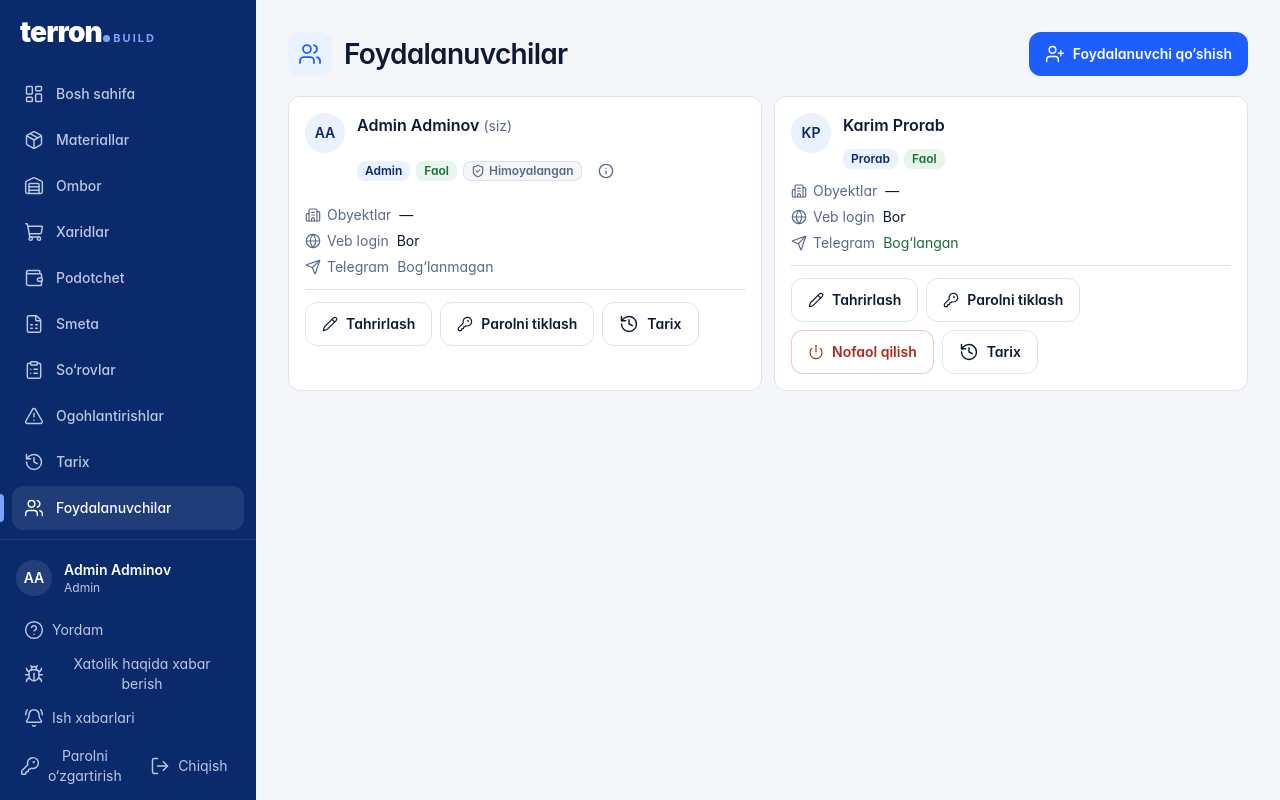
Test: /users — foydalanuvchi qo‘shish formasi › telefon band — tushunarli xato
Expected: the text "Karim Prorab" is shown, [843,115,945,135]
Click the button "Foydalanuvchi qo‘shish".
click(1138, 54)  # box [1029,32,1248,76]
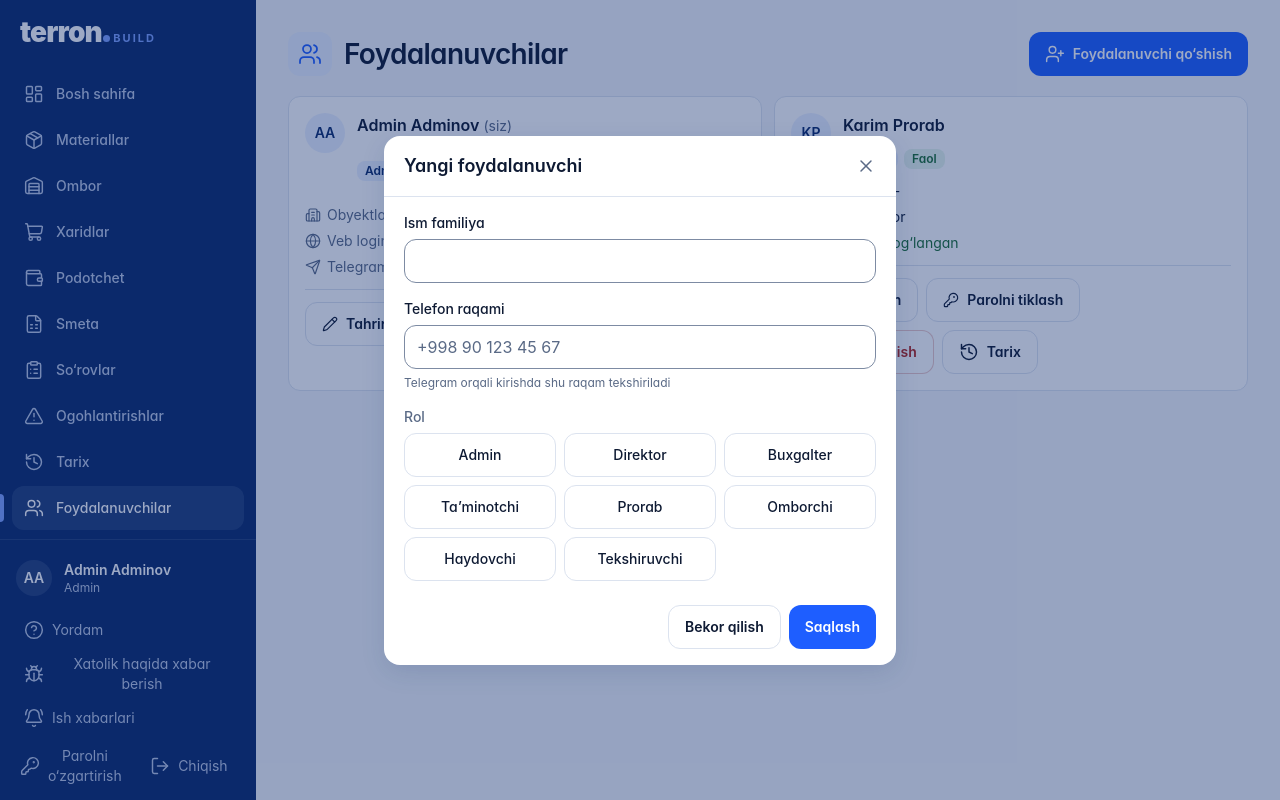
Type "Ali" into the field labelled "Ism familiya".
click(640, 260); type("Ali")  # box [404,238,876,282]
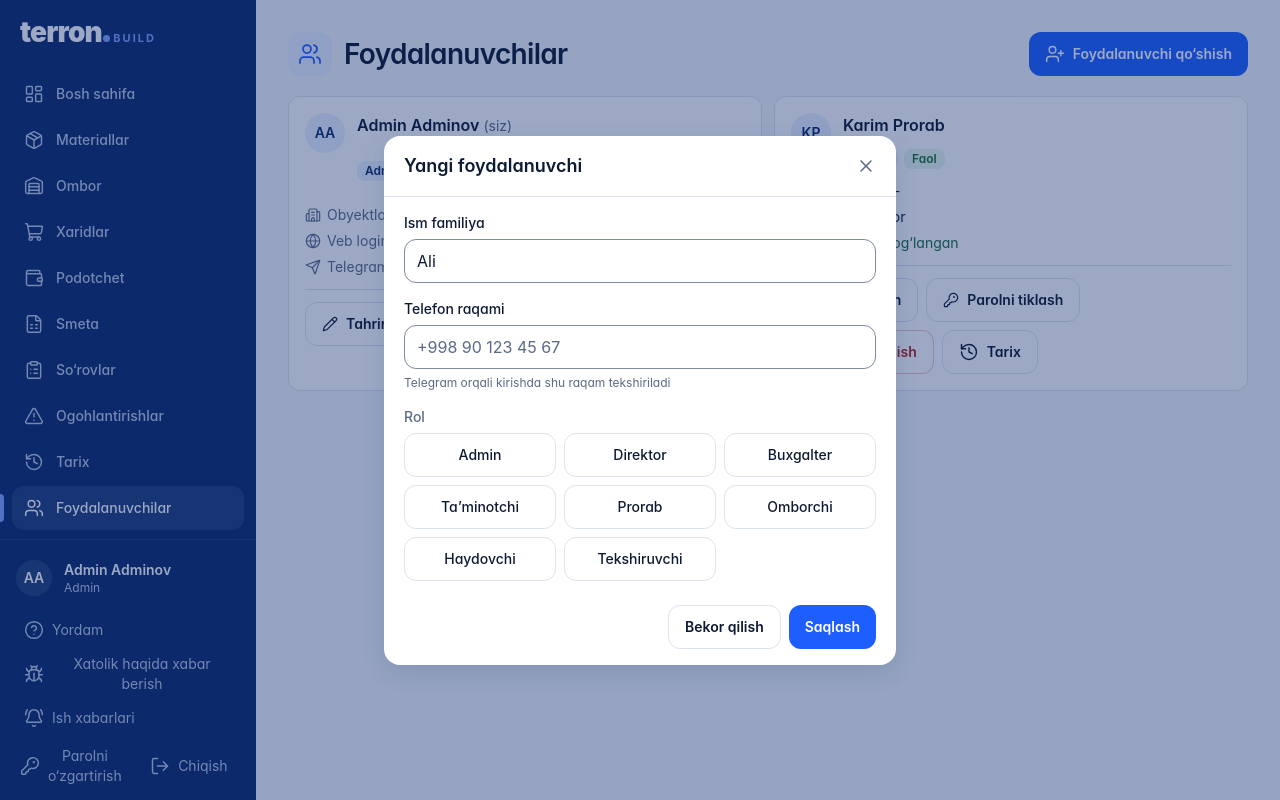
Type "+998901112233" into the field labelled "Telefon raqami".
click(640, 346); type("+998901112233")  # box [404,324,876,368]
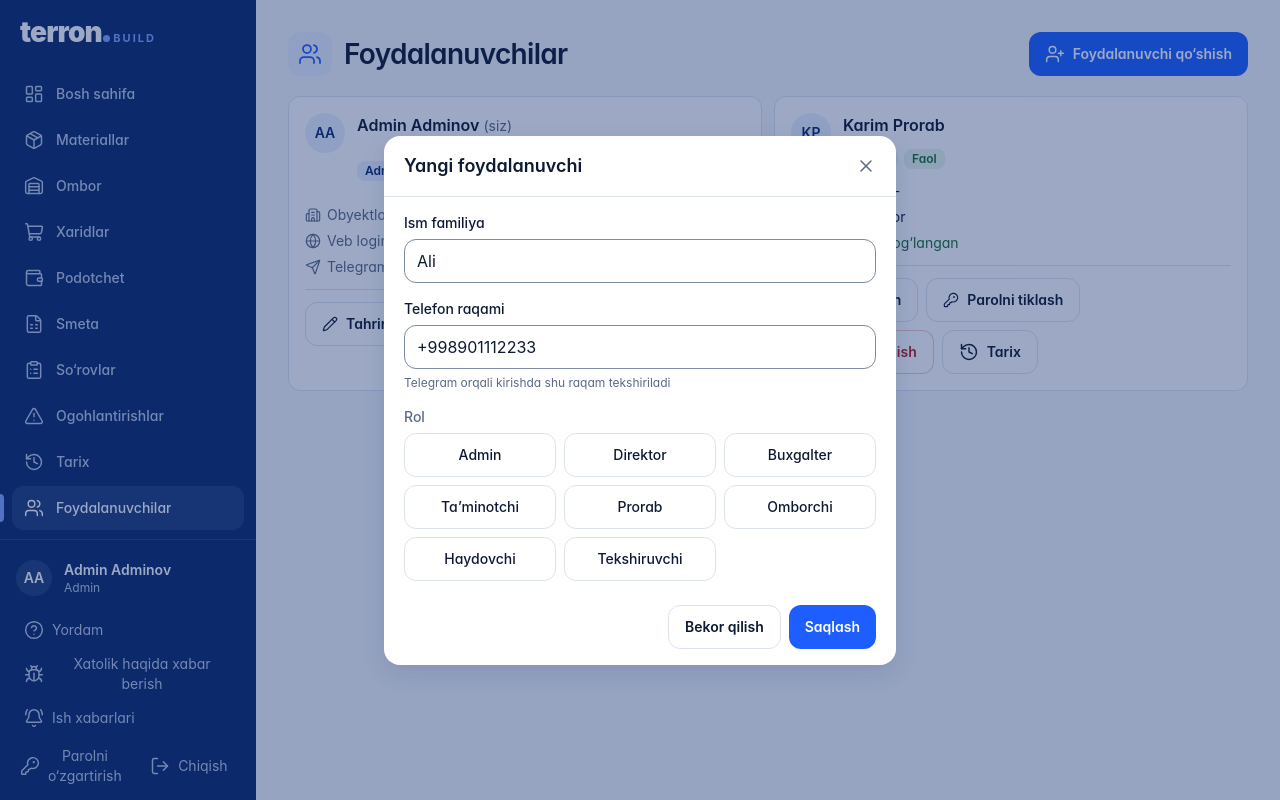
Click the radio button labelled "Buxgalter".
click(800, 454)  # box [724,432,876,476]
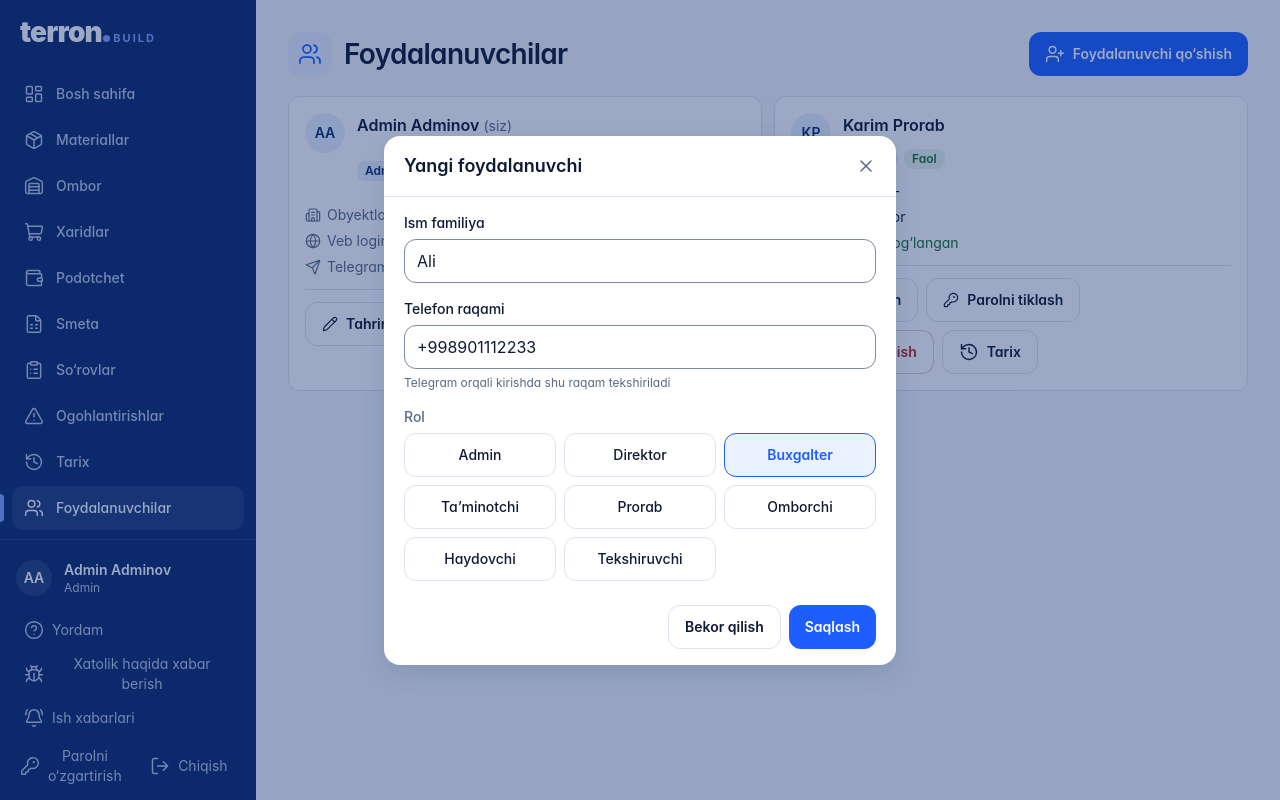
Click the button "Saqlash".
click(832, 626)  # box [789,604,876,648]
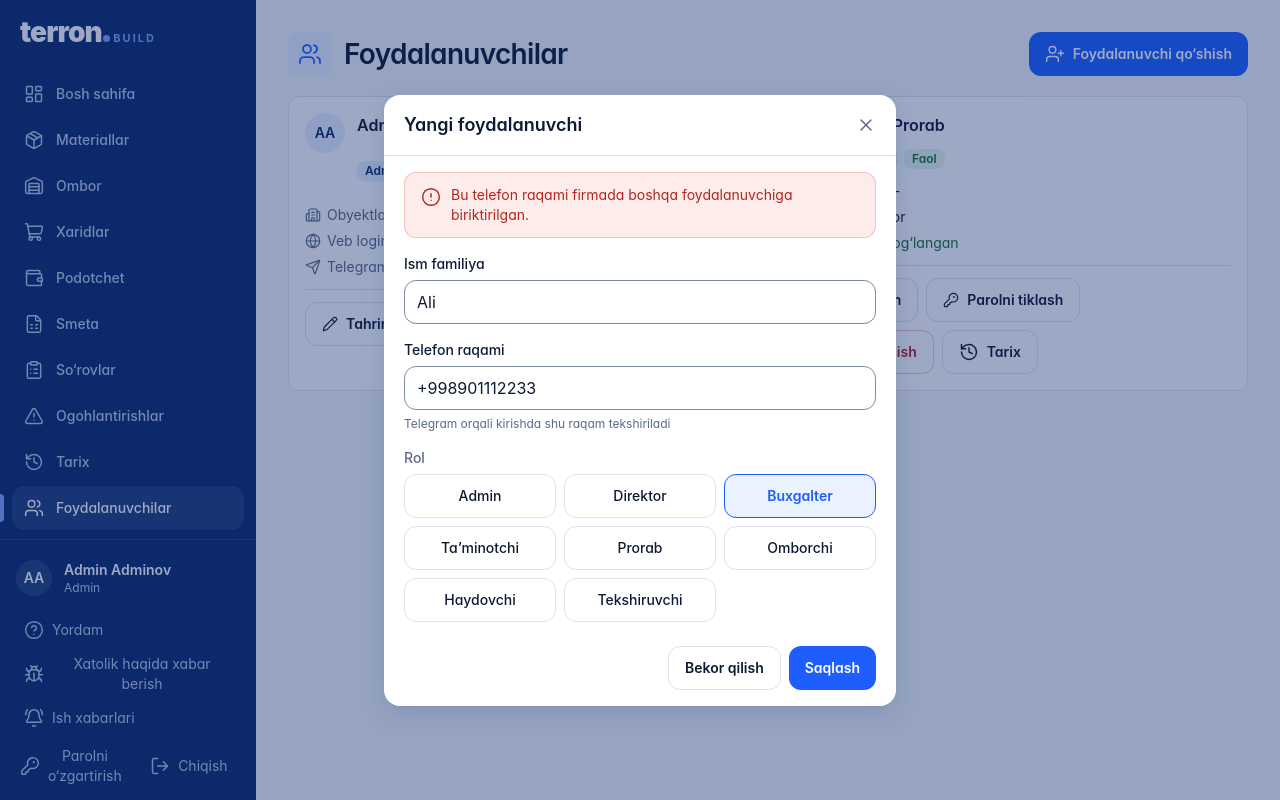
Expected: the text "Bu telefon raqami firmada boshqa foydalanuvchiga biriktirilgan." is shown, [451,186,792,222]
